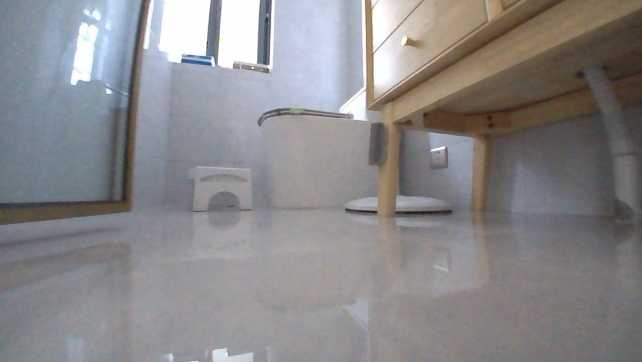toilet: (255, 82, 383, 210)
